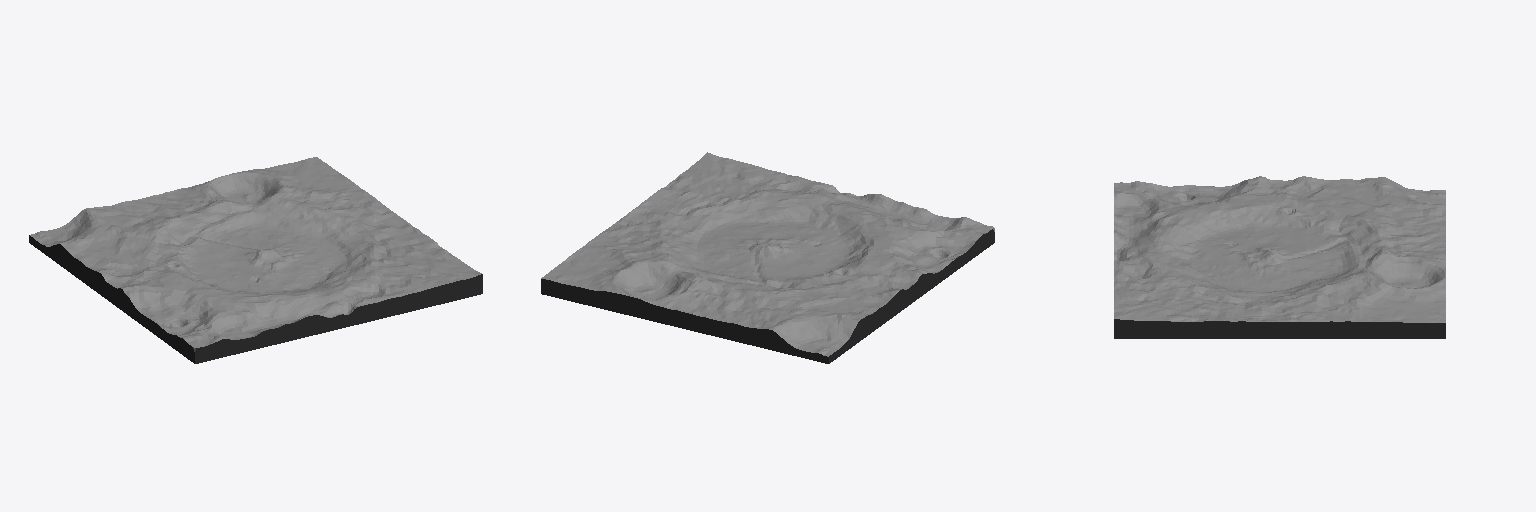
Rendered from MoonSurface.obj.
The picture shows the model from 3 angles: view 1: azimuth 30°, elevation 25°; view 2: azimuth 150°, elevation 25°; view 3: azimuth 270°, elevation 25°; orthographic projection.
Visible parts, largest first — view 1: Petavius_ZB_LP_Mesh; view 2: Petavius_ZB_LP_Mesh; view 3: Petavius_ZB_LP_Mesh.
Part boxes in pixels (x1,y1,x2,y2): Petavius_ZB_LP_Mesh: (29, 157, 482, 363); Petavius_ZB_LP_Mesh: (541, 152, 994, 363); Petavius_ZB_LP_Mesh: (1114, 176, 1445, 338).
Size of the model in its own units: 1.9 by 0.1562 by 1.9.